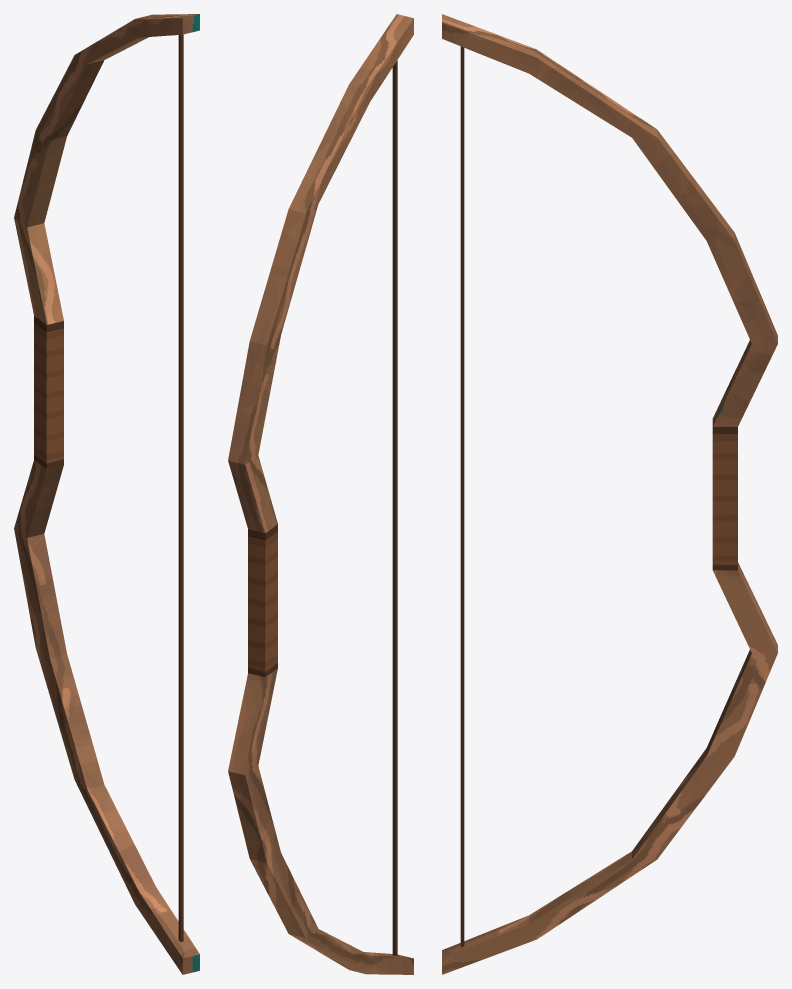
Rendered from Bow.fbx.
3 views of the same model, side by side, from view 1: azimuth 30°, elevation 25°; view 2: azimuth 150°, elevation 25°; view 3: azimuth 270°, elevation 25° (orthographic).
Visible parts, largest first — view 1: Cube.001; view 2: Cube.001; view 3: Cube.001.
Part boxes in pixels (<box>): Cube.001: <box>14,14,199,974</box>; Cube.001: <box>228,14,413,974</box>; Cube.001: <box>442,14,777,974</box>.
Size of the model in its own units: 0.0275 by 1.46 by 0.4656.
